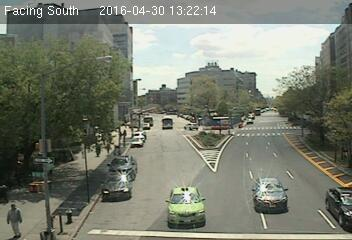neg: (58, 204, 73, 225), (117, 127, 129, 142)
pos: (1, 203, 27, 239), (90, 137, 106, 158)
